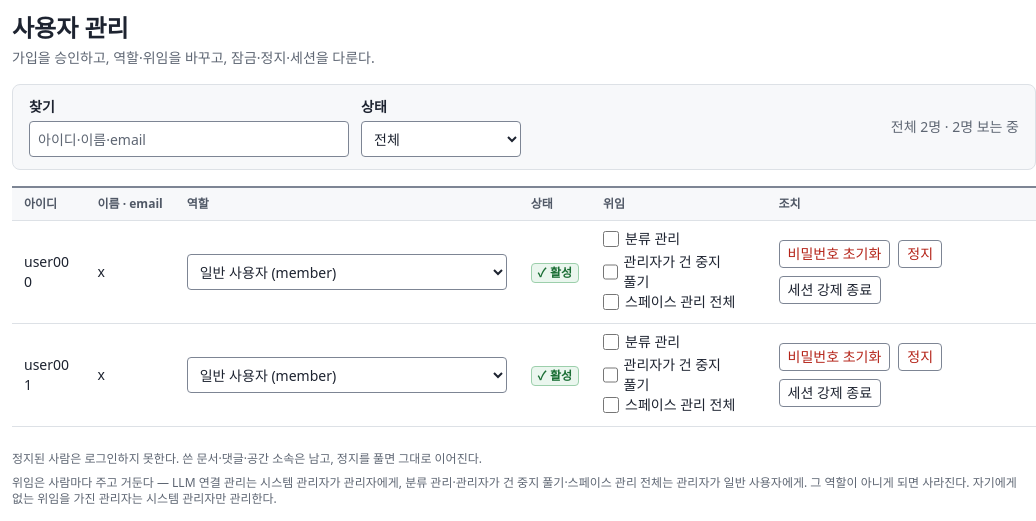
Scenario: AdminUsersPage — 찾기·거르기·더 보기 (P13 C.6, FR-1450~1452) › **찾는 사람이 없으면 표 안에 한 줄로 말한다** — 건수는 거르기 줄 오른쪽 끝에
This screenshot has width=1036, height=521.
expect the text "user000" is shown: met, box [12, 220, 86, 324]
Type "nobody" into the search field labelled "찾기" at (189, 139), box [29, 121, 349, 157]
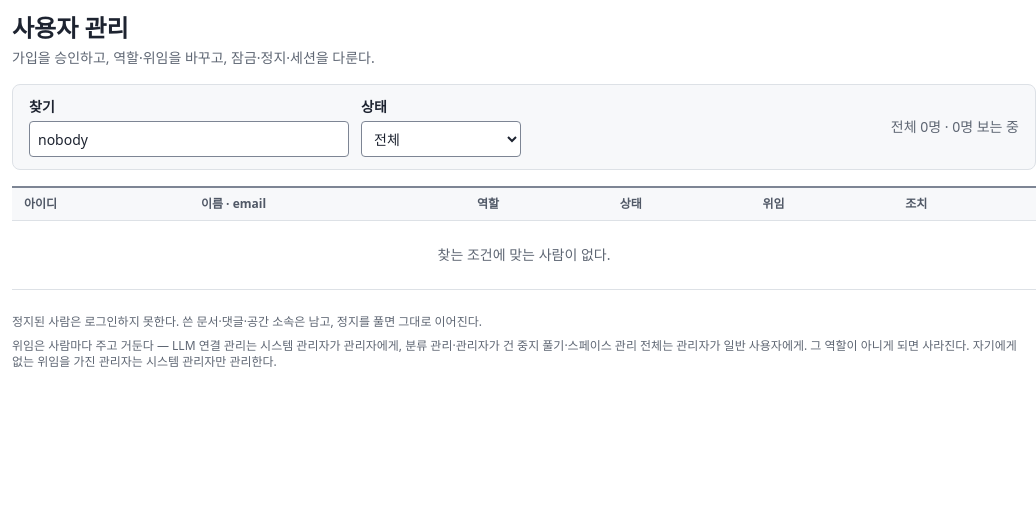
expect the text "찾는 조건에 맞는 사람이 없다." is shown: met, box [12, 220, 1035, 290]
